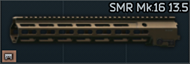AR-15 Geissele SMR MK16 13.5 inch M-LOK handguard: (0, 0, 190, 64)
